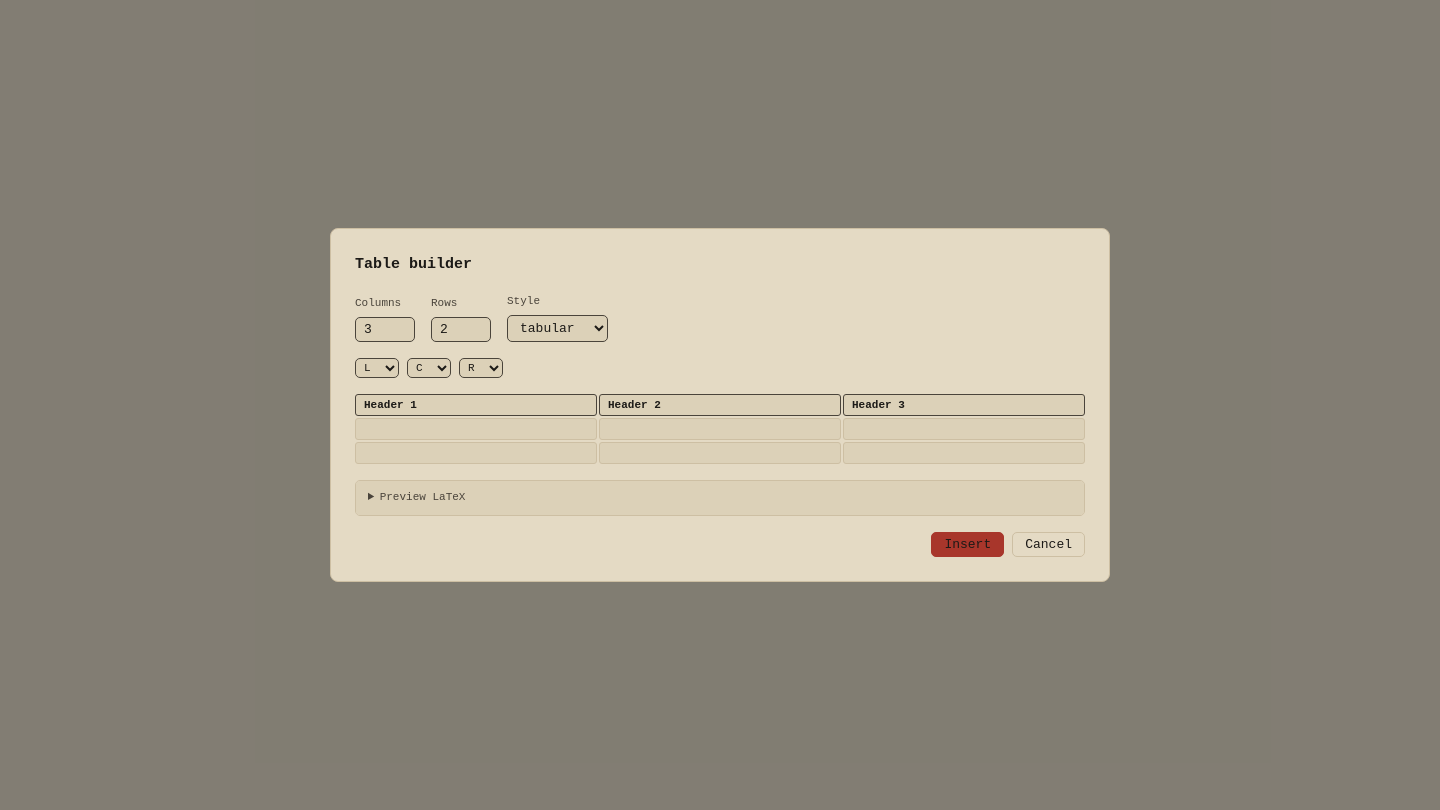
Test: TableBuilder › adds data rows when row count is increased
This screenshot has width=1440, height=810.
Replace the text in the number field labelled "Rows" with "4" at (461, 330), box [431,317,491,342]
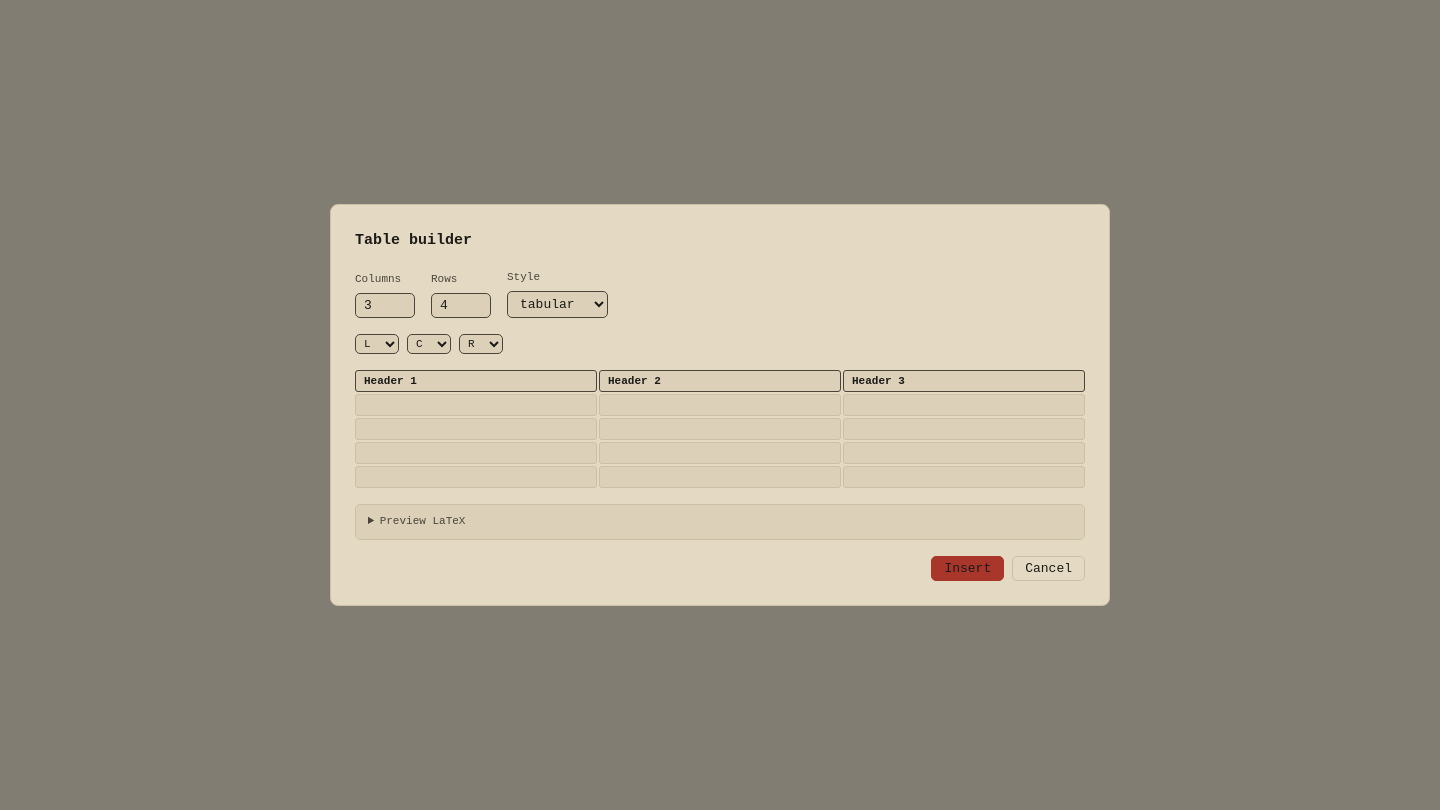
Now the field named "Row 4, column 1" is shown, box [355,466,597,488]
